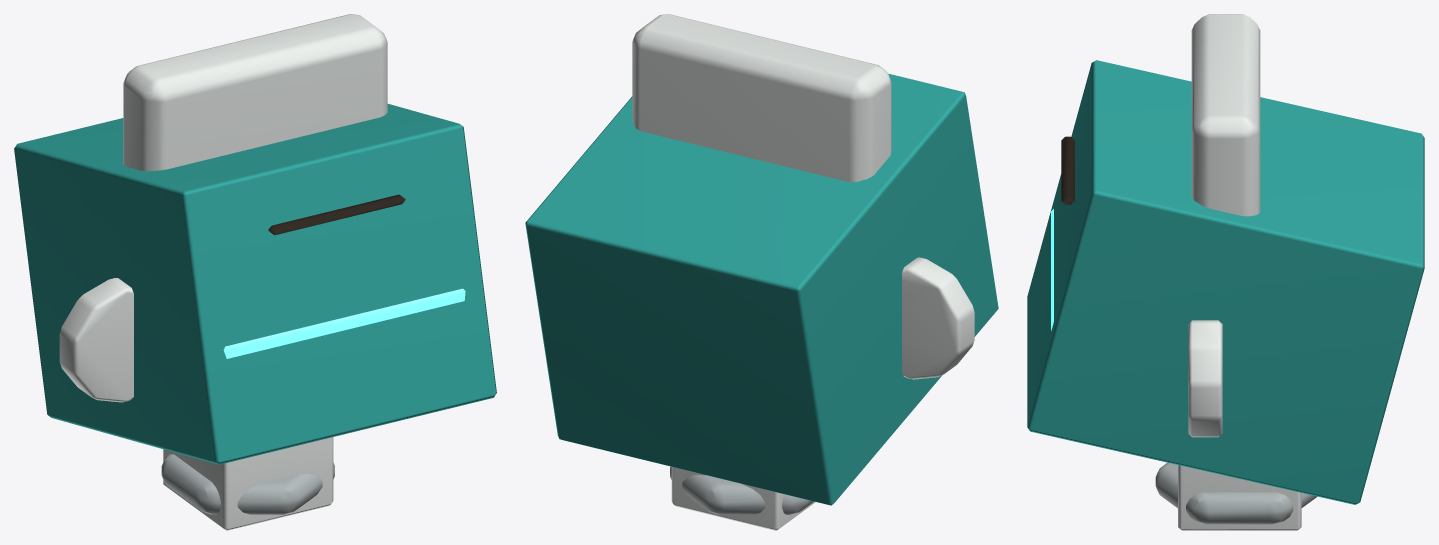
File: whirligig_head_windshear.glb
3 views of the same model, side by side, from view 1: azimuth 30°, elevation 25°; view 2: azimuth 150°, elevation 25°; view 3: azimuth 270°, elevation 25° (orthographic). The views are drawn at different scales.
Visible parts, largest first — view 1: whirligig_head_windshear; view 2: whirligig_head_windshear; view 3: whirligig_head_windshear.
Boxes of the visible parts, box(x1,y1,x2,y2) form: whirligig_head_windshear: box(14, 14, 496, 530); whirligig_head_windshear: box(525, 14, 998, 530); whirligig_head_windshear: box(1027, 14, 1424, 530).
Size of the model in its own units: 0.6512 by 0.71 by 0.579.
1 material, 1 textured.
